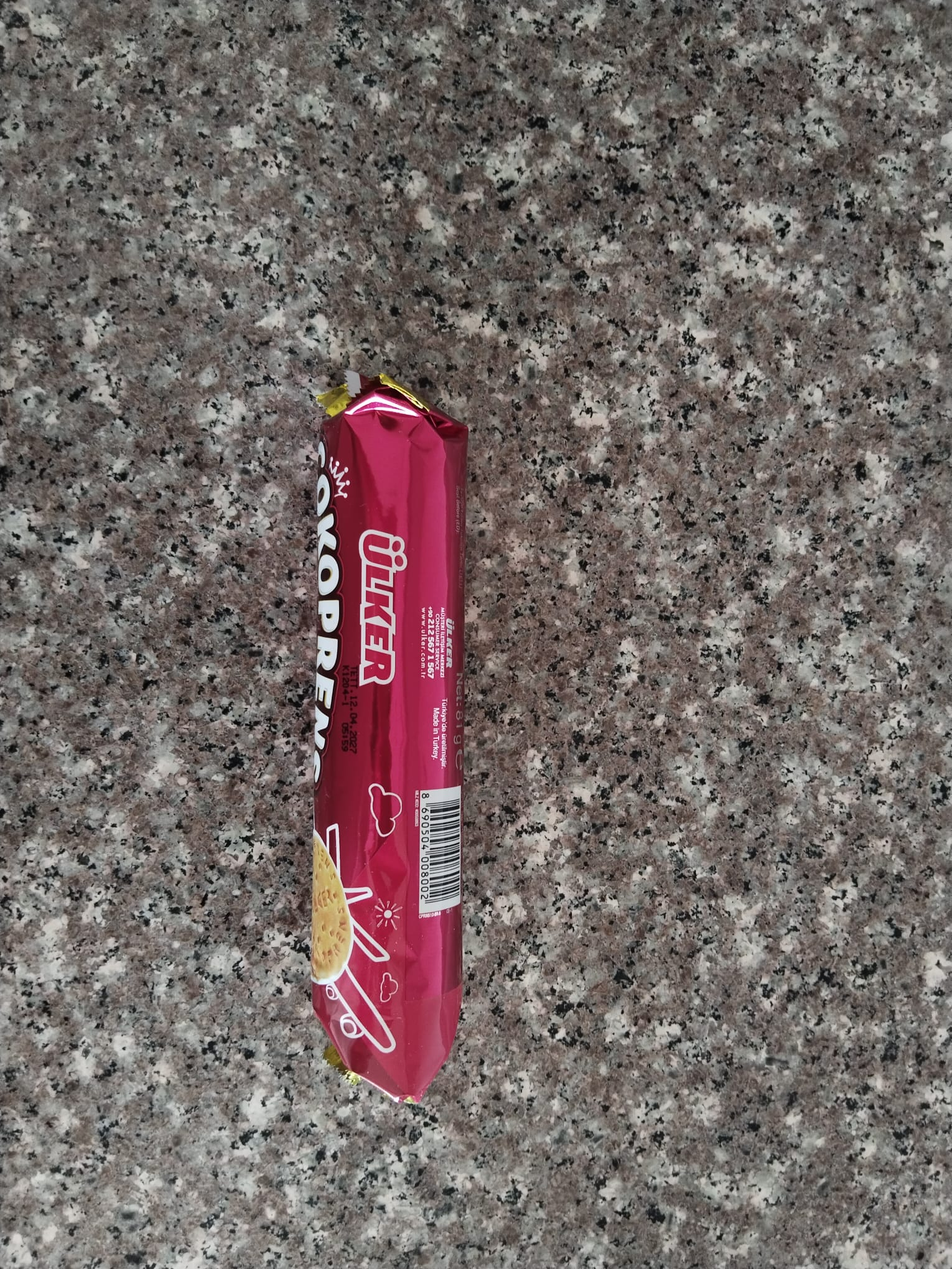ulker_cokoprens_biskuvi: (313, 375, 465, 1102)
